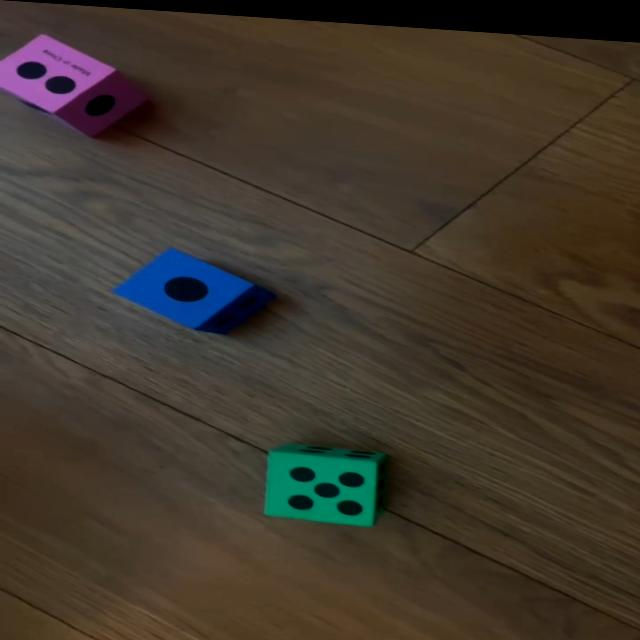cube: (112, 243, 270, 331), (264, 437, 388, 523)
